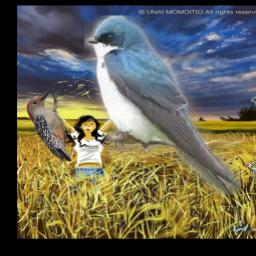Cuckoo: (251, 97, 256, 116)
Swallow: (84, 16, 241, 196)
Woodpecker: (27, 90, 72, 161), (245, 159, 256, 192)
